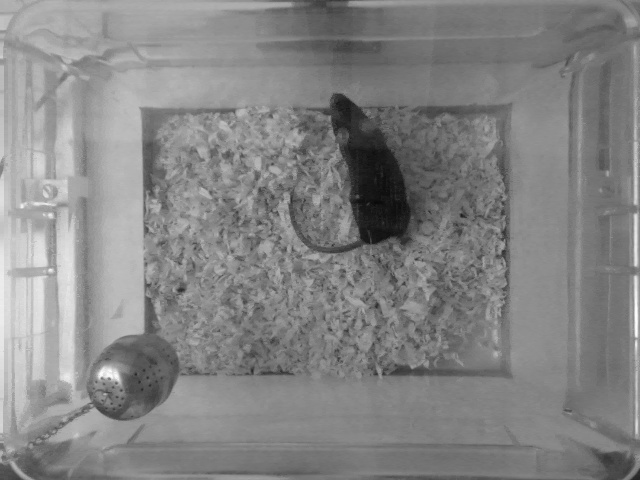mice: (290, 90, 410, 254)
